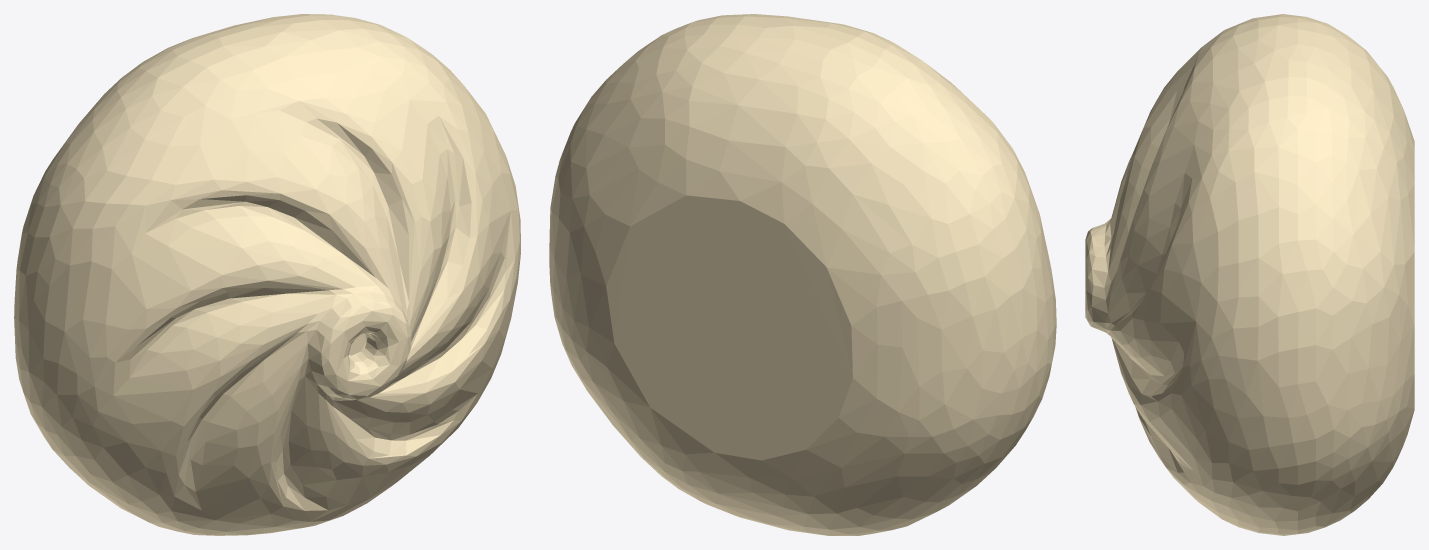
Rendered from dimsum.glb.
3 renders of one model, left to right at view 1: azimuth 30°, elevation 25°; view 2: azimuth 150°, elevation 25°; view 3: azimuth 270°, elevation 25°, orthographic. The views are drawn at different scales.
Parts seen in each view (by area): view 1: Sphere.145; view 2: Sphere.145; view 3: Sphere.145.
Part boxes in pixels (x1,y1,x2,y2): Sphere.145: (14,14,520,535); Sphere.145: (549,14,1056,535); Sphere.145: (1085,14,1414,535).
Bounding box in the file's own units: 13.93 × 13.71 × 8.84.
